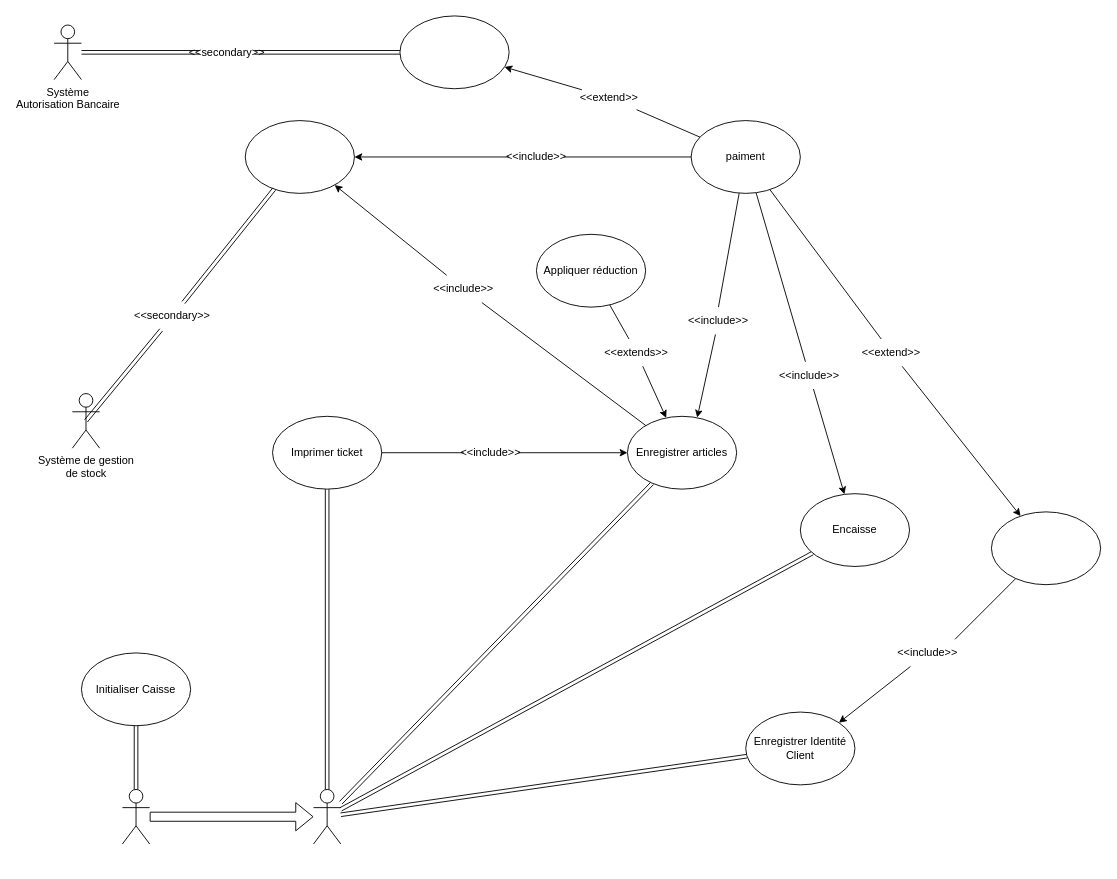
Some shapes in this 1117 by 879 pixel diagram are drawn without their labels. The centre of each missing label's shape, as x and y in pixels:
"CB" goes at [454,52].
"Chèque" goes at [1046,548].
"envoyer Information" goes at [299,156].
"Hote(sse) de caisse" goes at [327,816].
"Responsable" goes at [135,816].
